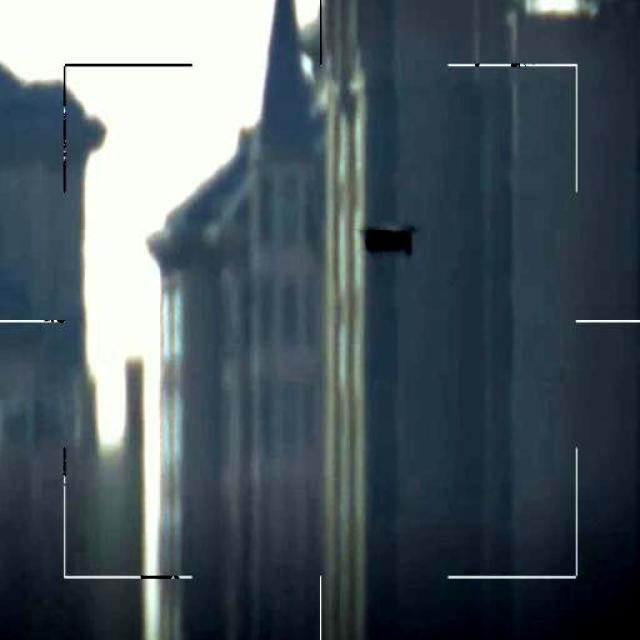bird: (368, 221, 418, 261)
